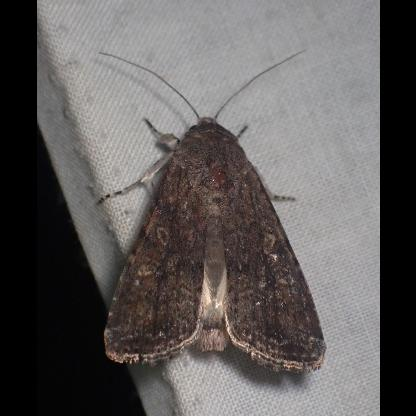Fall Armyworm Moth: (96, 46, 328, 376)
